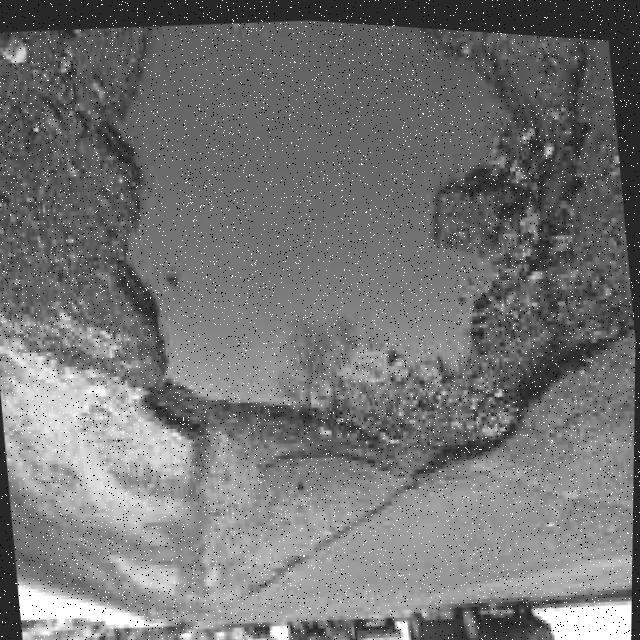pothole: (83, 4, 581, 502)
